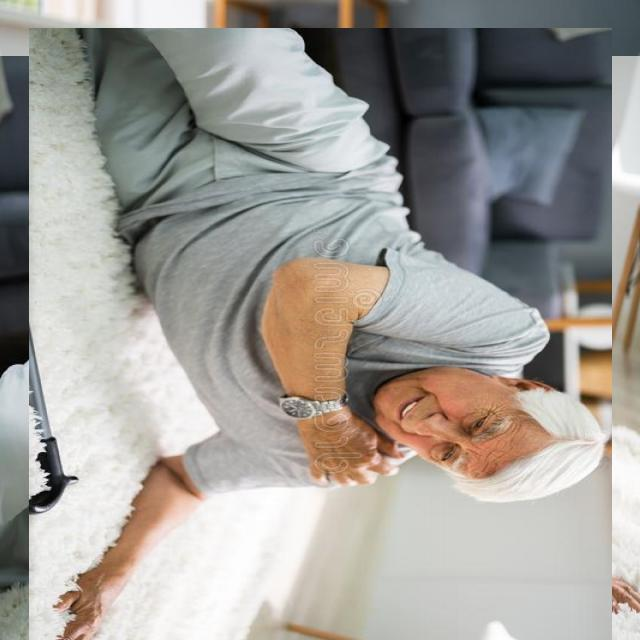Fall: (42, 22, 601, 640)
